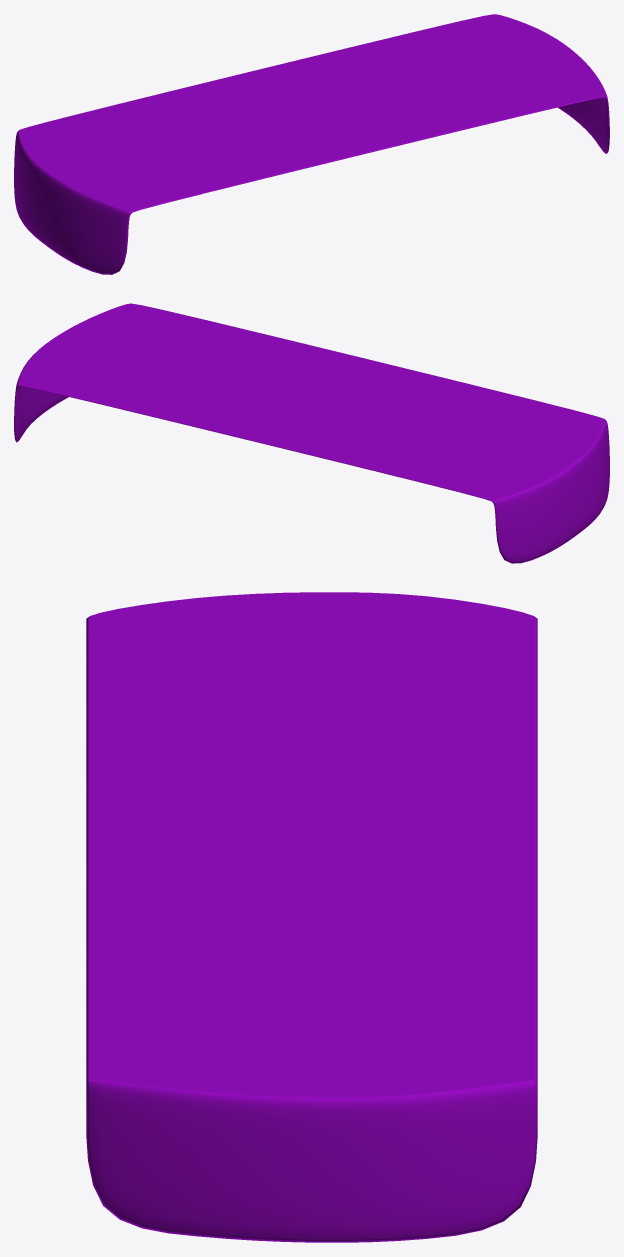
The model's file is TableclothModel.fbx.
3 views of the same model, one above another, from view 1: azimuth 30°, elevation 25°; view 2: azimuth 150°, elevation 25°; view 3: azimuth 270°, elevation 25° (orthographic). The views are drawn at different scales.
Visible parts, largest first — view 1: pCube38; view 2: pCube38; view 3: pCube38.
Part boxes in pixels (bbox=[...]): pCube38: bbox=[14, 14, 609, 274]; pCube38: bbox=[14, 303, 609, 563]; pCube38: bbox=[86, 592, 537, 1242].
Bounding box in the file's own units: 1181 × 153 × 436.
